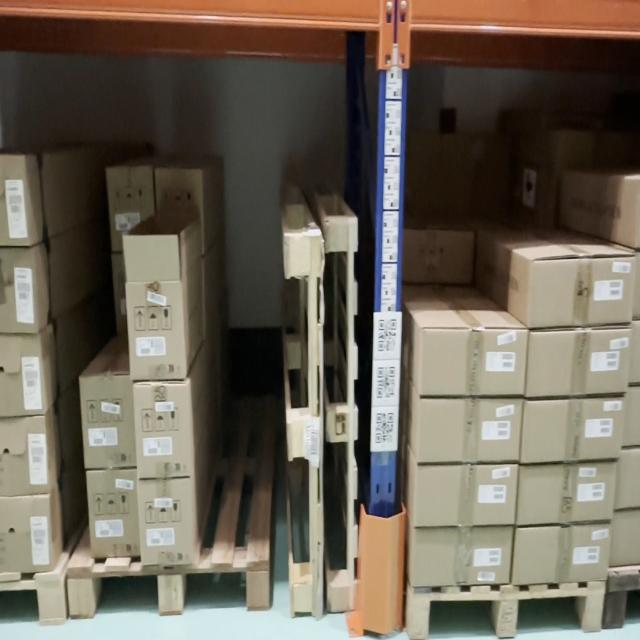box: (417, 332, 526, 397), (126, 272, 188, 381), (415, 403, 521, 465), (524, 399, 622, 464), (522, 458, 615, 523), (416, 468, 516, 525), (534, 267, 632, 325), (80, 372, 136, 473), (530, 334, 628, 390), (135, 382, 191, 479), (414, 528, 513, 582), (87, 463, 140, 558), (517, 528, 607, 582), (139, 477, 194, 563)
